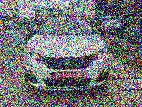car: (24, 16, 109, 91)
